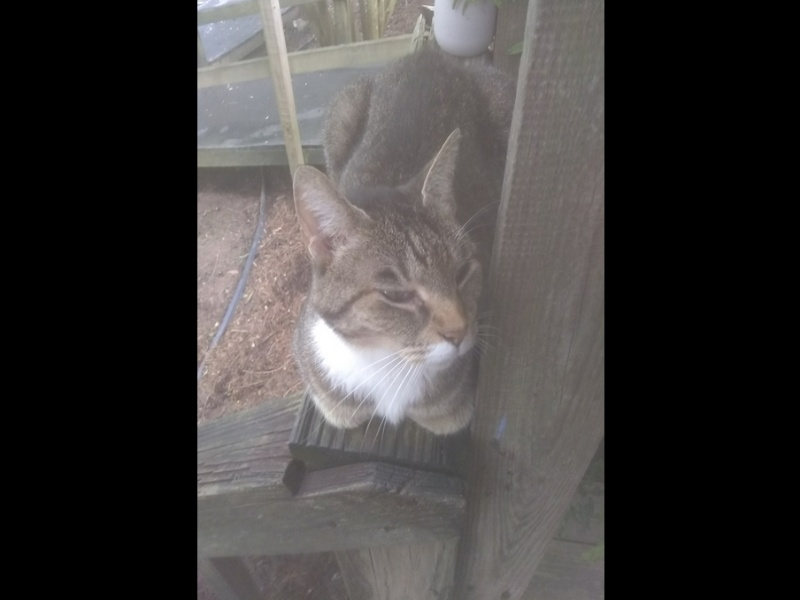cat: (295, 35, 521, 445)
